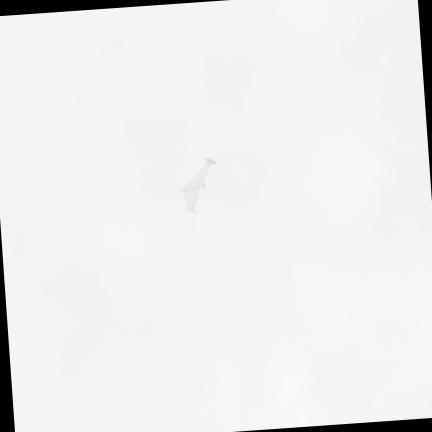Shahed: (178, 157, 216, 211)
